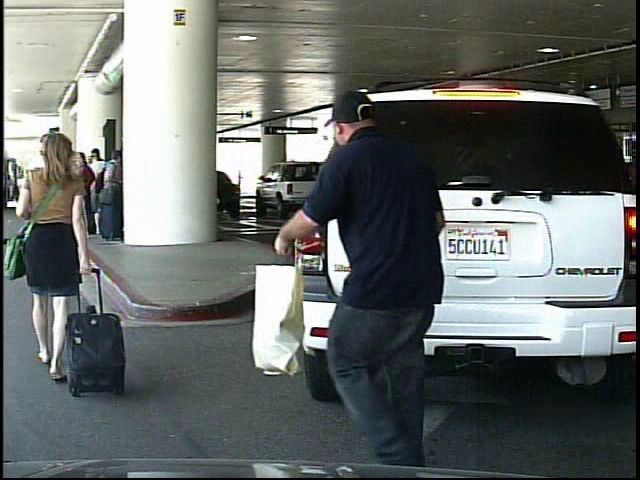person: (304, 80, 473, 467), (4, 123, 104, 406)
